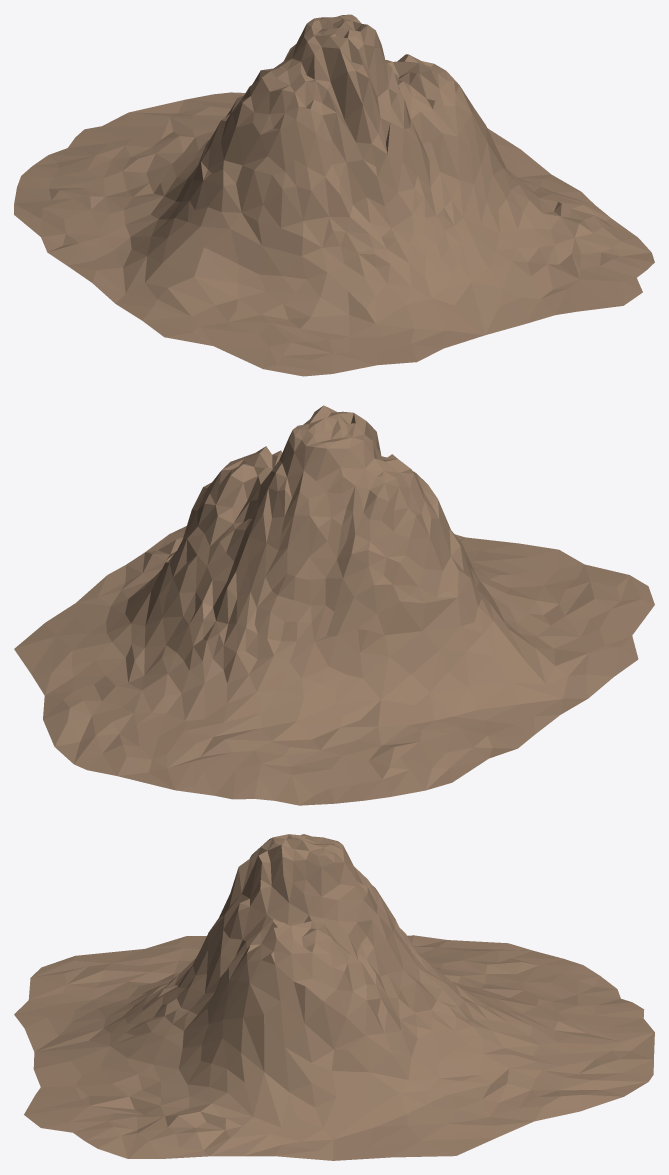
The model's file is Mountain_07.fbx.
3 views of the same model, one above another, from view 1: azimuth 30°, elevation 25°; view 2: azimuth 150°, elevation 25°; view 3: azimuth 270°, elevation 25° (orthographic). The views are drawn at different scales.
Visible parts, largest first — view 1: Mountain_07; view 2: Mountain_07; view 3: Mountain_07.
Boxes of the visible parts, box(x1,y1,x2,y2) form: Mountain_07: box(14, 14, 654, 376); Mountain_07: box(14, 405, 654, 805); Mountain_07: box(14, 834, 654, 1160).
Bounding box in the file's own units: 11968 × 5452 × 14656.
